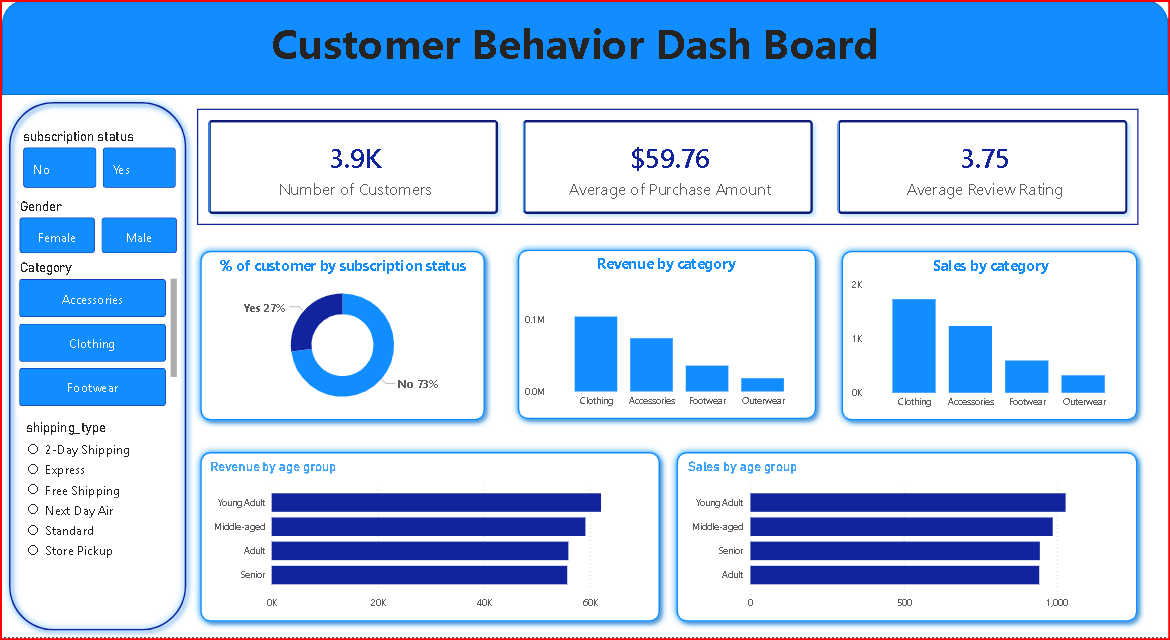

The page's visual inventory and layout, read from the dashboard file:
{"tool":"powerbi","page":{"name":"Page 1","canvas":[1500,820],"ordinal":0},"visuals":[{"type":"cardVisual","fields":{"Data":["customer.Number of Customers","customer.Average of Purchase Amount","customer.Average Review Rating"]},"box":[246,135.1,1223.7,159.2],"z":0},{"type":"textbox","box":[37,27.4,1185.6,68.6],"z":1000},{"type":"shape","box":[0,0,1500.3,122.2],"z":2000},{"type":"textbox","box":[98.1,12.9,1280,83.6],"z":3000},{"type":"shape","box":[246,313.6,384.3,236.4],"z":4000},{"type":"donutChart","title":"% of customer by subscription status","fields":{"Category":["customer.subscription_status"],"Y":["CountNonNull(customer.customer_id)"]},"box":[263.7,328,349,207.4],"z":5000},{"type":"shape","box":[654.5,312,402,236.4],"z":6000},{"type":"shape","box":[1071,313.6,398.8,236.4],"z":7000},{"type":"lineClusteredColumnComboChart","title":"Revenue by category","fields":{"Y":["Sum(customer.purchase_amount)"],"Category":["customer.category"]},"box":[667.3,326.4,374.7,207.4],"z":8000},{"type":"lineClusteredColumnComboChart","title":"Sales by category","fields":{"Y":["CountNonNull(customer.customer_id)"],"Category":["customer.category"]},"box":[1088.7,328,366.6,207.4],"z":9000},{"type":"shape","box":[0,122.2,246,697.9],"z":10000},{"type":"advancedSlicerVisual","title":"Gender","fields":{"Values":["customer.gender"]},"box":[17.7,255.7,212.3,75.6],"z":12000},{"type":"advancedSlicerVisual","title":"Category","fields":{"Values":["customer.category"]},"box":[17.7,334.5,212.3,193],"z":13000},{"type":"listSlicer","fields":{"Values":["customer.shipping_type"]},"box":[25.7,540.3,194.6,242.8],"z":14000},{"type":"shape","box":[246,572.5,609.5,236.4],"z":15000},{"type":"shape","box":[858.7,572.5,611.1,236.4],"z":16000},{"type":"clusteredBarChart","title":"Sales by age group","fields":{"Y":["CountNonNull(customer.customer_id)"],"Category":["customer.age_group"]},"box":[878,590.2,577.3,204.2],"z":18000},{"type":"advancedSlicerVisual","title":"subscription status","fields":{"Values":["customer.subscription_status"]},"box":[22.5,165.6,207.4,82],"z":18001},{"type":"clusteredBarChart","title":"Revenue by age group","fields":{"Y":["Sum(customer.purchase_amount)"],"Category":["customer.age_group"]},"box":[262.1,590.2,577.3,204.2],"z":18002}]}

Visuals, with their boxes in screenshot pixels (x1, y1, x2, y2), scaled from the page's 1500x820 canvas onto the 1170x640 screenshot:
cardVisual - customer.Number of Customers x customer.Average of Purchase Amount: [192, 105, 1146, 230]
textbox: [29, 21, 954, 75]
shape: [0, 0, 1169, 95]
textbox: [77, 10, 1075, 75]
shape: [192, 245, 492, 429]
"% of customer by subscription status" donutChart: [206, 256, 478, 418]
shape: [511, 244, 824, 428]
shape: [835, 245, 1146, 429]
"Revenue by category" lineClusteredColumnComboChart: [520, 255, 813, 417]
"Sales by category" lineClusteredColumnComboChart: [849, 256, 1135, 418]
shape: [0, 95, 192, 639]
"Gender" advancedSlicerVisual: [14, 200, 179, 259]
"Category" advancedSlicerVisual: [14, 261, 179, 412]
listSlicer - customer.shipping_type: [20, 422, 172, 611]
shape: [192, 447, 667, 631]
shape: [670, 447, 1146, 631]
"Sales by age group" clusteredBarChart: [685, 461, 1135, 620]
"subscription status" advancedSlicerVisual: [18, 129, 179, 193]
"Revenue by age group" clusteredBarChart: [204, 461, 655, 620]
